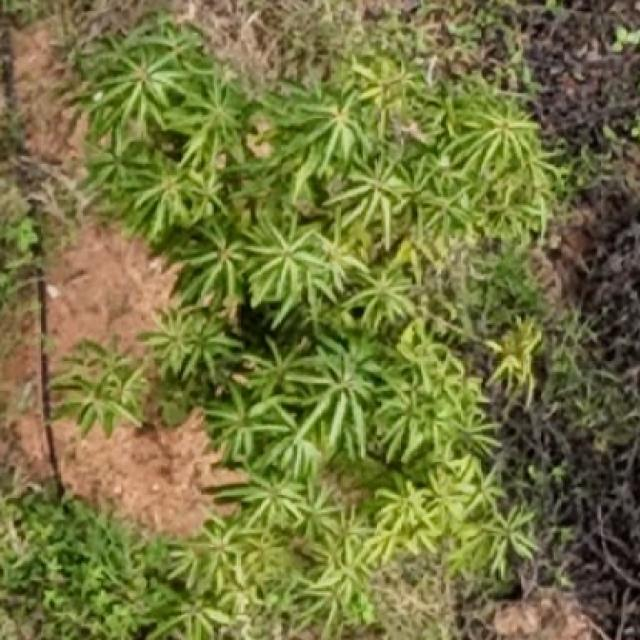mangoTree: (40, 31, 562, 628)
